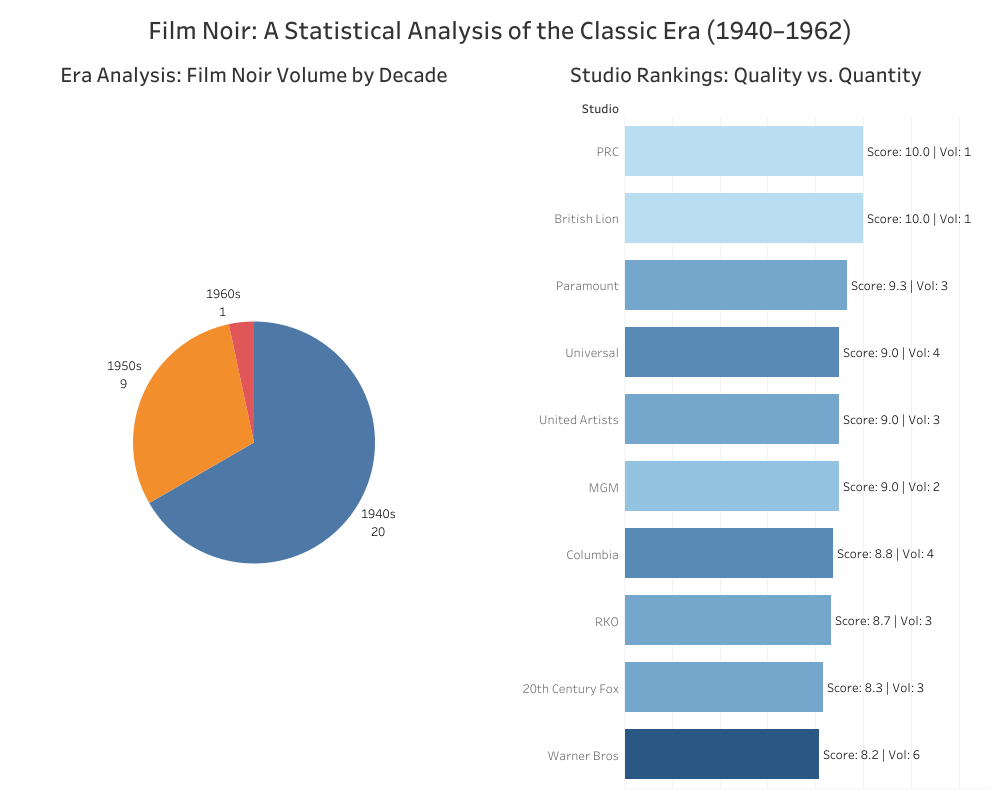

The dashboard page shown, as its layout file describes it:
{"tool":"tableau","page":{"name":"Dashboard 1","canvas":[1000,800],"ordinal":0},"visuals":[{"type":"title","box":[8,8,984,42]},{"type":"worksheet","title":"Sheet 1","mark":"Pie","box":[8,50,492,742]},{"type":"worksheet","title":"Sheet 2","mark":"Bar","rows":["studio"],"cols":["noir_score"],"box":[500,50,492,742]}]}

Visuals, with their boxes in screenshot pixels (x1, y1, x2, y2), scaled from the page's 1000x800 canvas onto the 999x799 screenshot:
title: [x1=8, y1=8, x2=991, y2=50]
"Sheet 1" worksheet (Pie marks): [x1=8, y1=50, x2=500, y2=791]
"Sheet 2" worksheet (Bar marks): [x1=500, y1=50, x2=991, y2=791]
